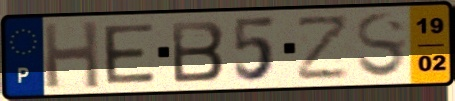5: (231, 14, 282, 85)
B: (168, 19, 227, 85)
E: (100, 21, 158, 86)
H: (40, 19, 103, 91)
S: (353, 11, 409, 81)
Z: (295, 12, 352, 83)
